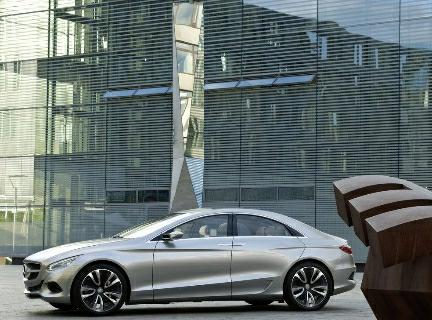car: (14, 188, 358, 316)
